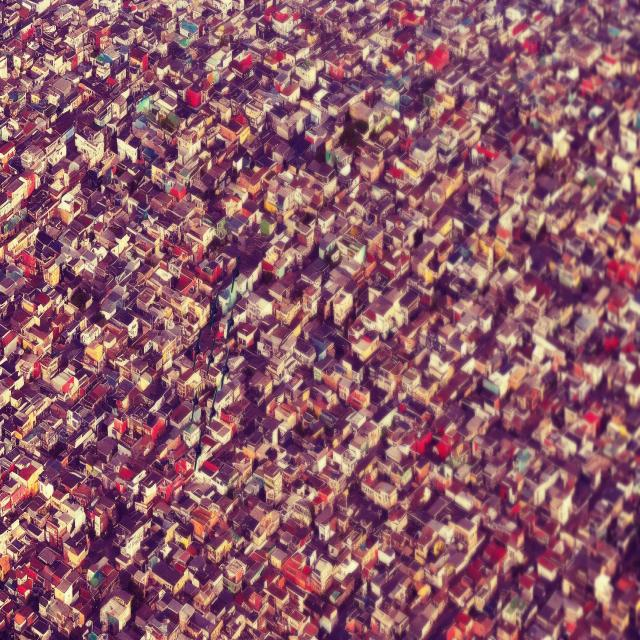airplane: (193, 431, 206, 471), (192, 327, 204, 370), (204, 340, 216, 377), (220, 347, 230, 391), (208, 291, 220, 326), (231, 254, 241, 293), (226, 310, 236, 338), (209, 390, 217, 422), (190, 389, 198, 420)
